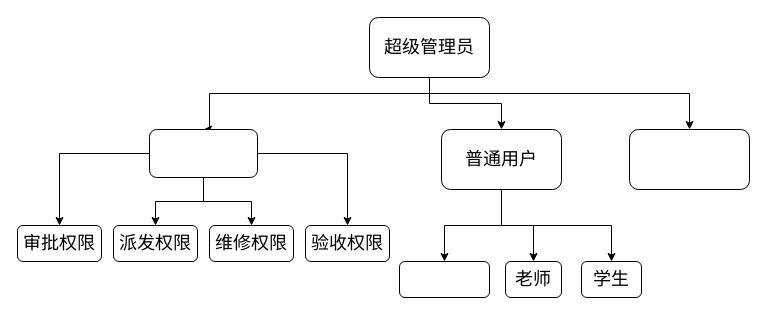
Some shapes in this 767 by 315 pixel diagram are drawn without their labels. Each missing label, with the centre of its shape:
"校外人员" goes at point (444, 279).
"系统管理员" goes at point (203, 153).
"设备管理员" goes at point (689, 159).
